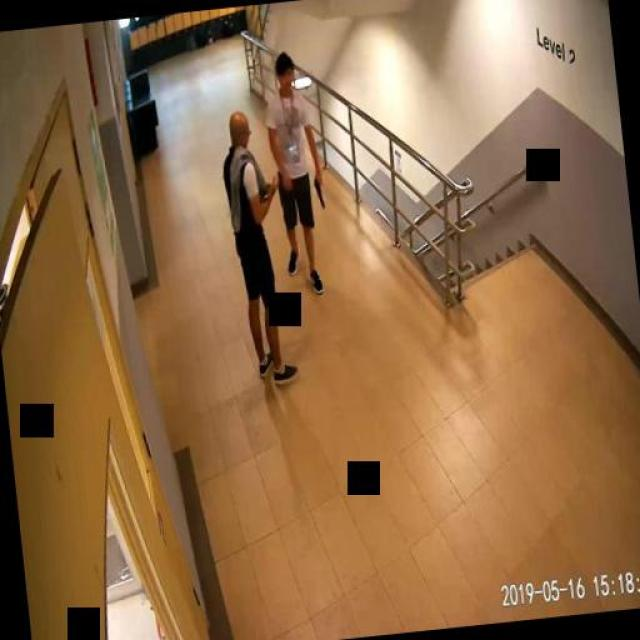gun: (313, 173, 325, 205)
